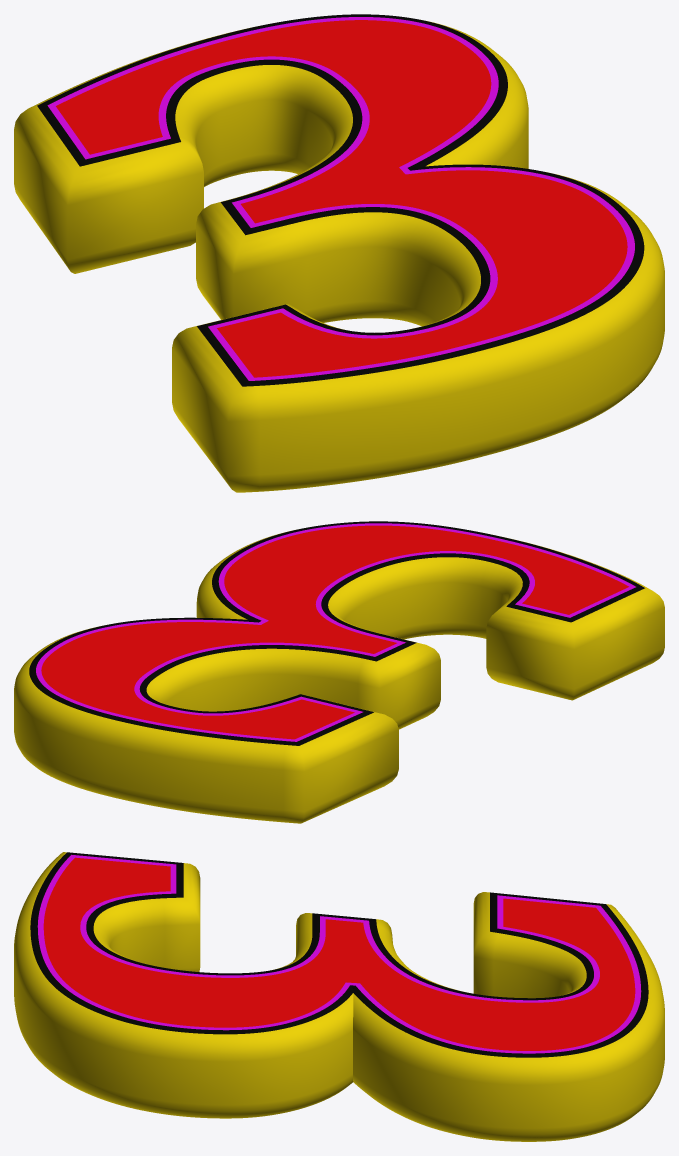
Rendered from Slot_Numbers_Three.fbx.
3 views of the same model, one above another, from view 1: azimuth 30°, elevation 25°; view 2: azimuth 150°, elevation 25°; view 3: azimuth 270°, elevation 25° (orthographic). The views are drawn at different scales.
Parts seen in each view (by area): view 1: Three; view 2: Three; view 3: Three.
Part boxes in pixels (left/top/right/bottom): Three: left=14, top=14, right=664, bottom=492; Three: left=14, top=521, right=664, bottom=823; Three: left=14, top=852, right=664, bottom=1141.
Bounding box in the file's own units: 43.82 × 8 × 54.69.
